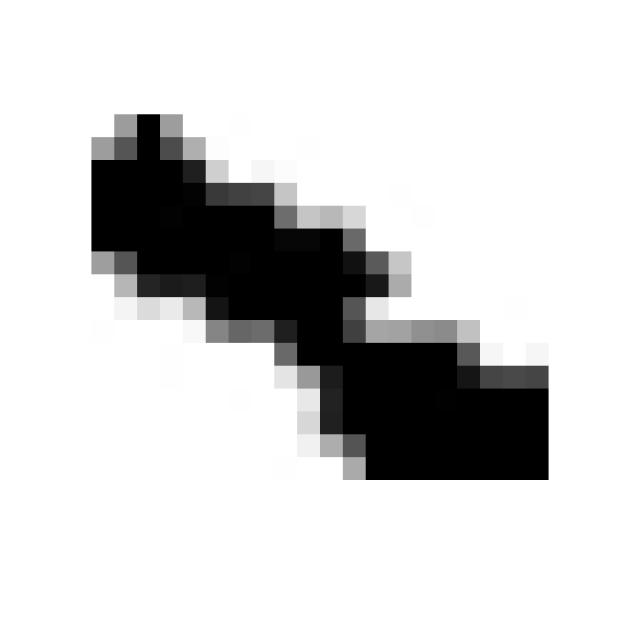0 -zero-: (68, 98, 574, 510)
